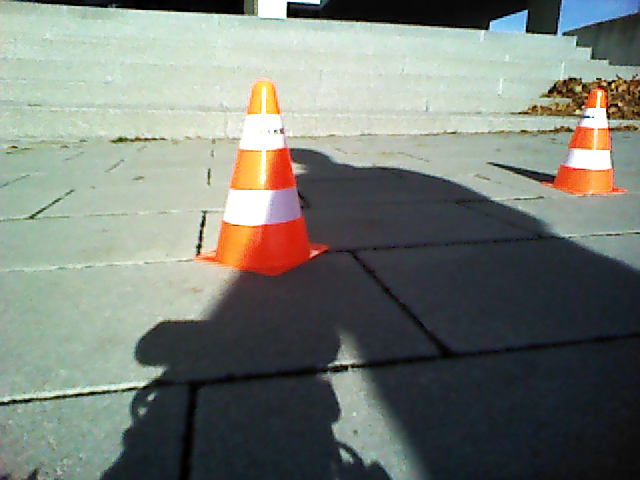orangeconesmall: (207, 79, 319, 276), (555, 88, 623, 194)
